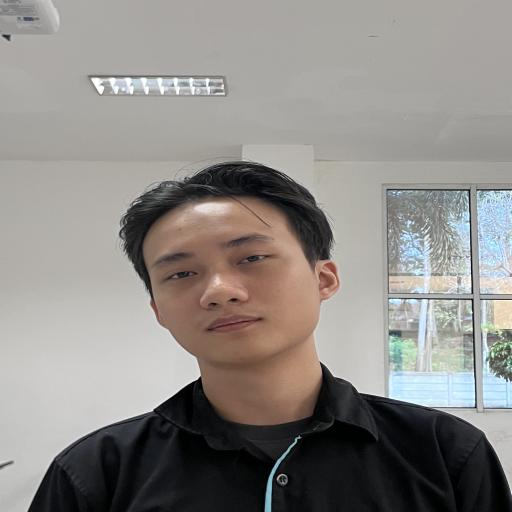wajah: (0, 120, 472, 447)
